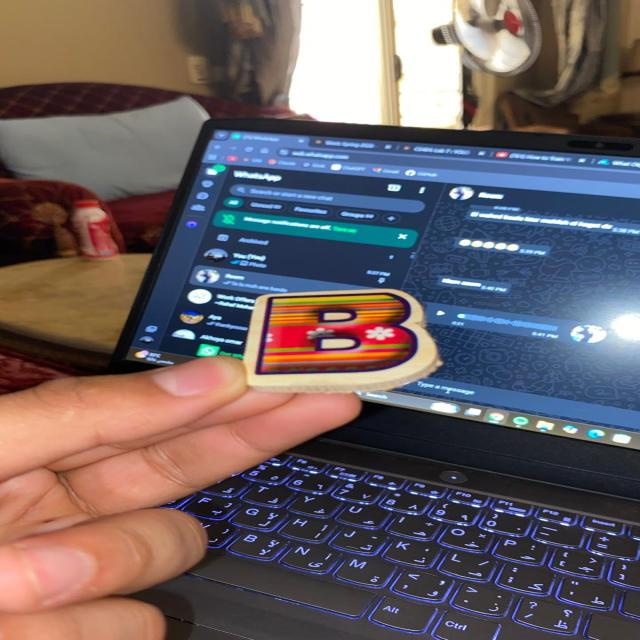B: (244, 288, 440, 392)
